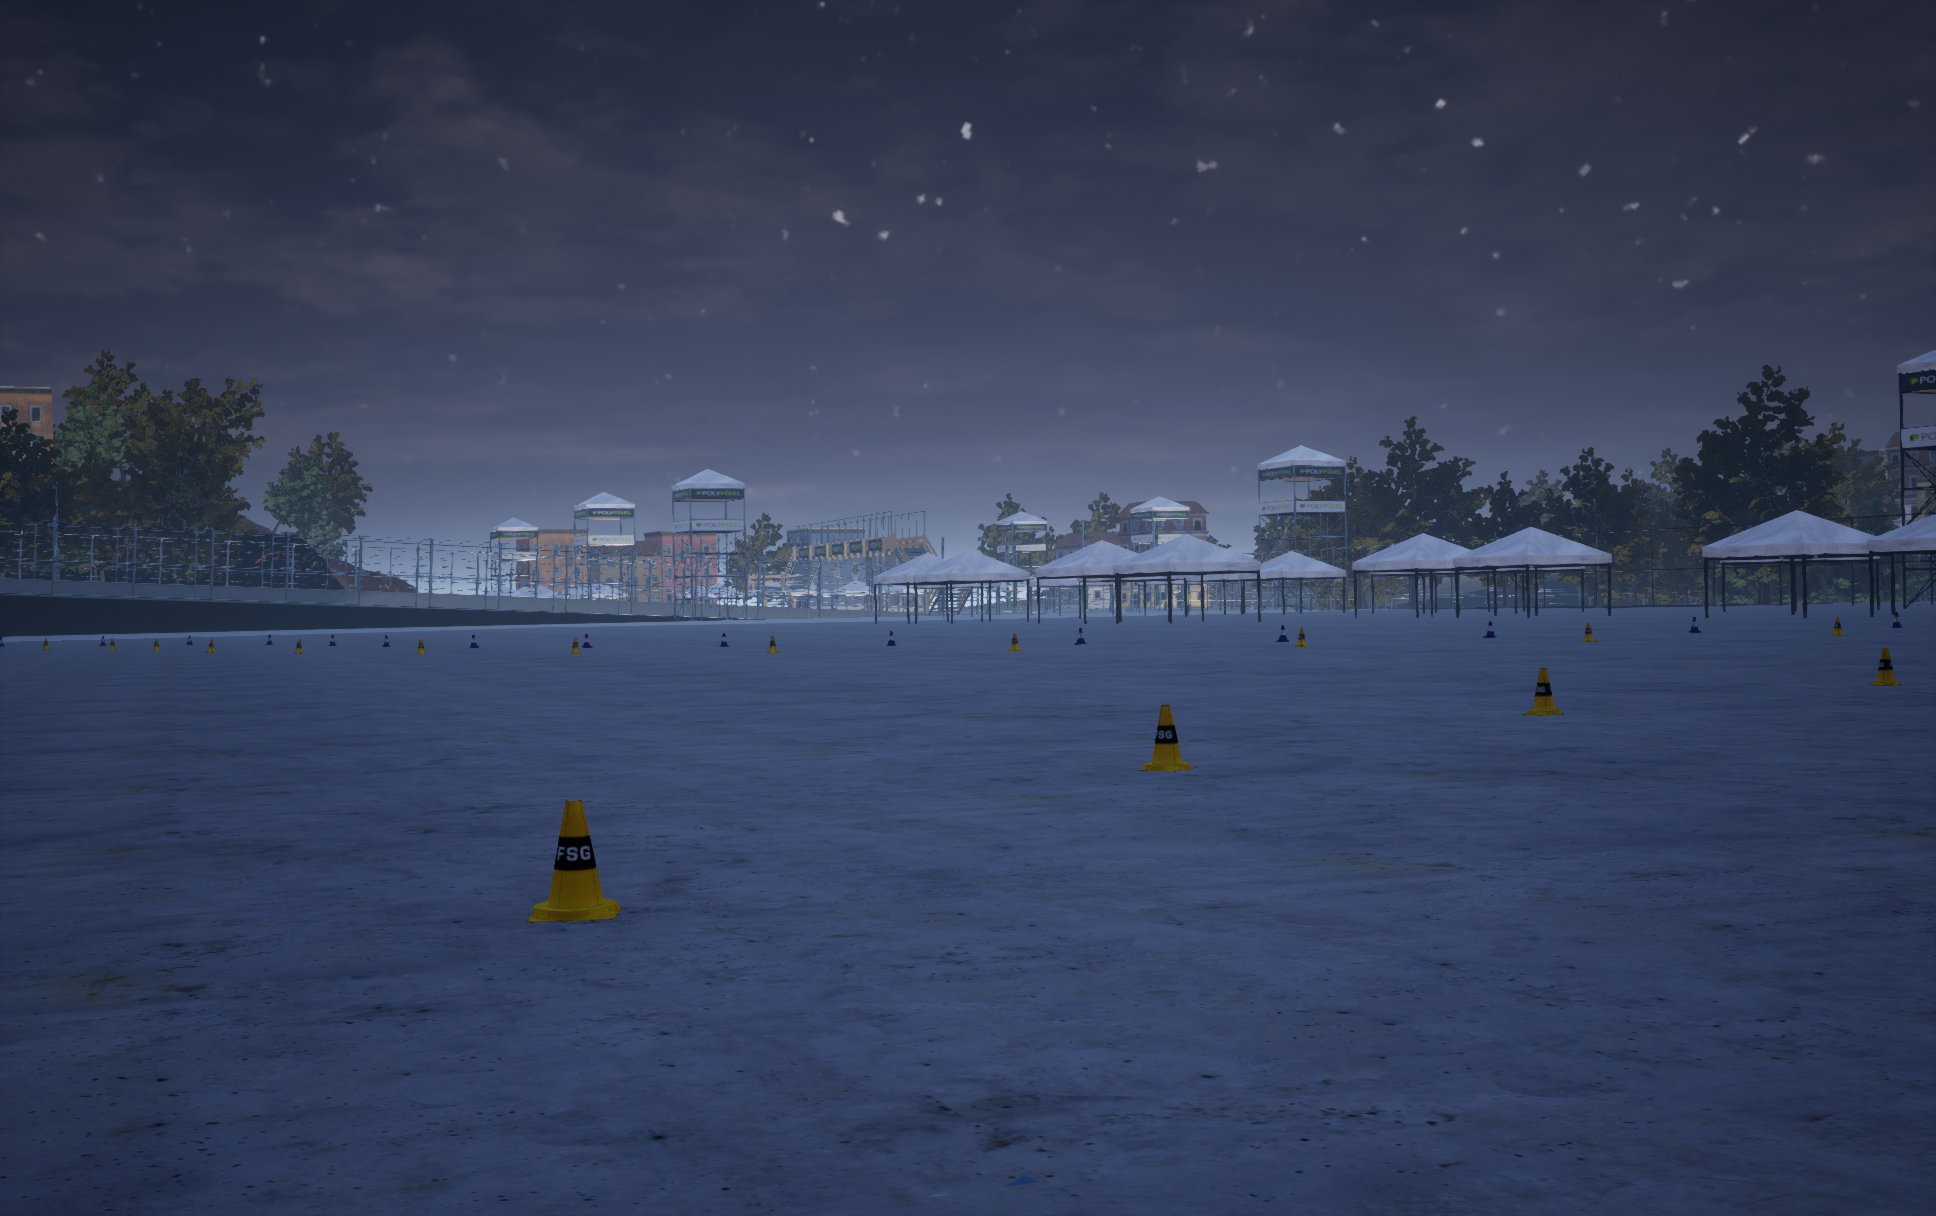blue: (525, 799, 621, 922), (1138, 705, 1196, 771), (1521, 668, 1563, 714), (1869, 649, 1901, 685), (1582, 623, 1597, 642), (1294, 628, 1308, 646), (1009, 633, 1021, 650)
